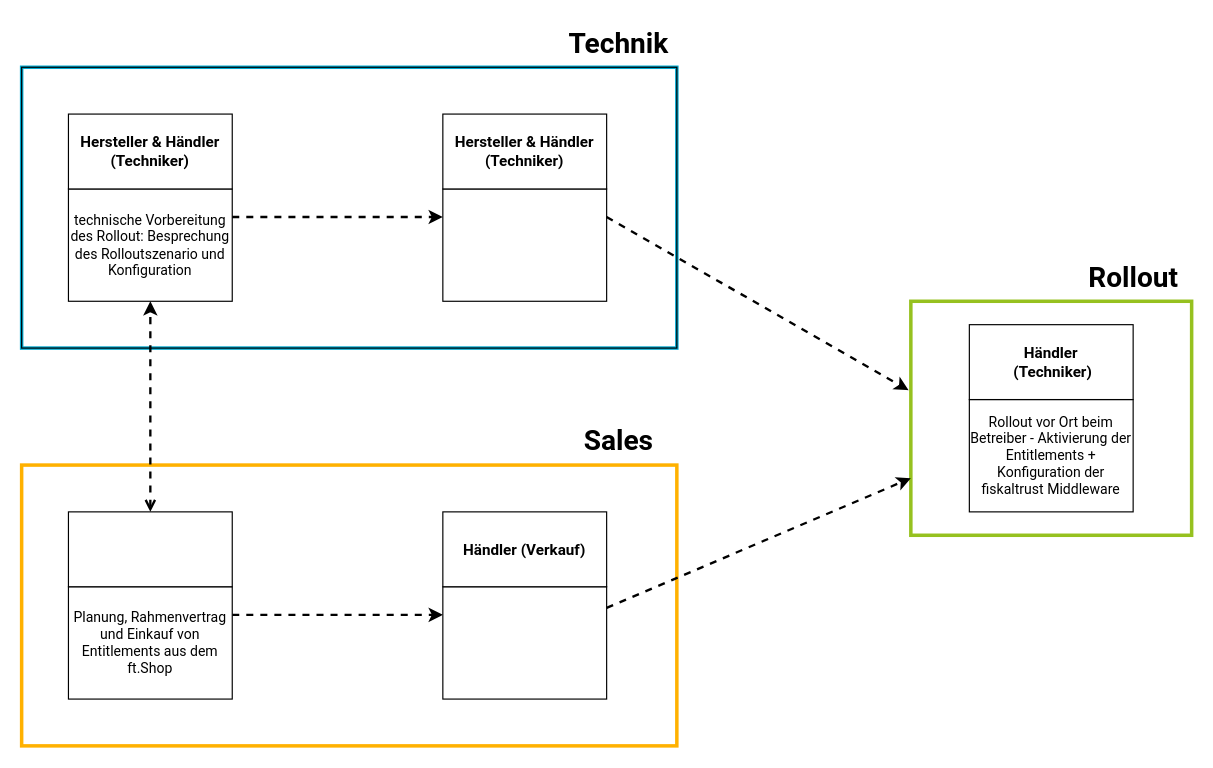
This 1213x768 diagram has some shape labels left out. Each missing label, with the centre of its shape:
"bei Bedarf: Konfigurationstemplates für den Massenrollout erstellen" goes at (x=524, y=244).
"Händler (Einkauf)" goes at (x=149, y=549).
"Verkauf von fiskaltrust Produkten an die Betreiber" goes at (x=524, y=642).
